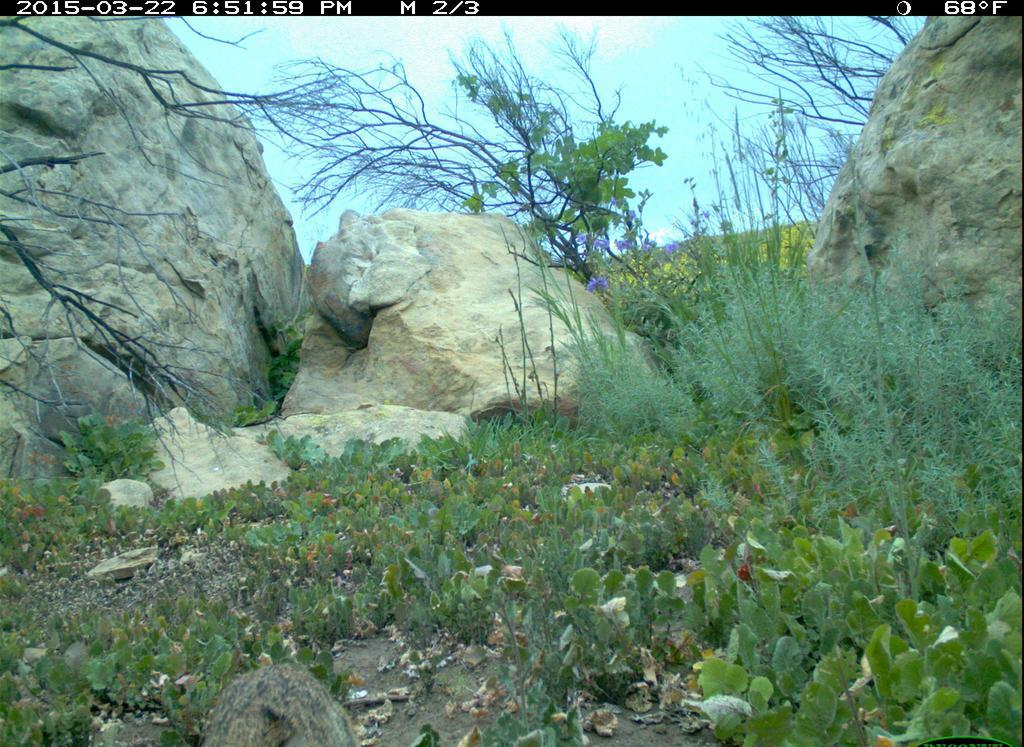rabbit: (185, 653, 374, 747)
